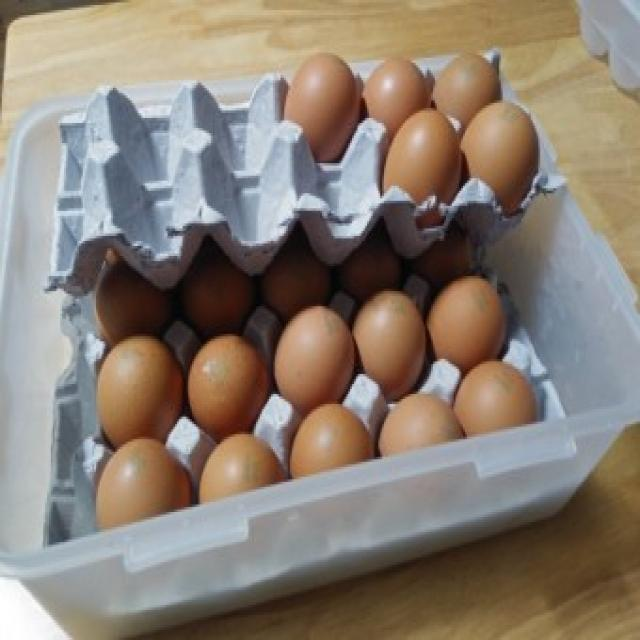eggs: (268, 298, 362, 416), (92, 331, 186, 448), (96, 432, 194, 542), (374, 103, 462, 215), (185, 328, 275, 437), (425, 268, 516, 370), (460, 95, 539, 210), (354, 288, 436, 398), (284, 49, 363, 157), (197, 429, 290, 509), (288, 403, 378, 479), (453, 356, 538, 431), (378, 395, 469, 457), (362, 57, 430, 133), (433, 56, 503, 118)
